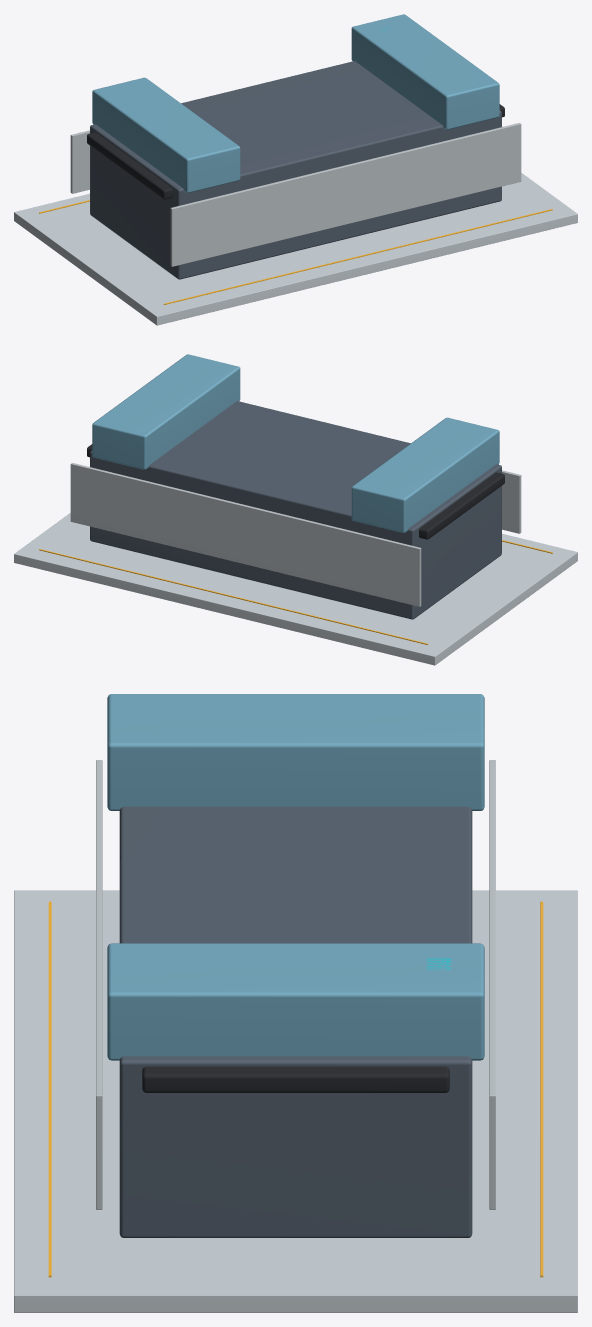
The picture shows the model from 3 angles, top to bottom: view 1: azimuth 30°, elevation 25°; view 2: azimuth 150°, elevation 25°; view 3: azimuth 270°, elevation 25°; orthographic projection. The views are drawn at different scales.
Visible parts, largest first — view 1: Industrial frame, Ground plane, Safety guard, Equipment housing.001, Equipment housing, Conveying surface, Safety guard.001, Concept clearance guide; view 2: Industrial frame, Ground plane, Safety guard.001, Equipment housing.001, Equipment housing, Conveying surface, Safety guard, Concept clearance guide.001; view 3: Ground plane, Industrial frame, Equipment housing.001, Equipment housing, Conveying surface, Safety guard, Safety guard.001, Concept clearance guide, Concept clearance guide.001.
Boxes of the visible parts, left/top/right/bottom form: Industrial frame: left=90, top=61, right=501, bottom=279; Ground plane: left=14, top=173, right=577, bottom=325; Safety guard: left=170, top=123, right=521, bottom=266; Equipment housing.001: left=351, top=14, right=499, bottom=129; Equipment housing: left=92, top=77, right=240, bottom=192; Conveying surface: left=87, top=104, right=504, bottom=199; Safety guard.001: left=70, top=130, right=89, bottom=193; Concept clearance guide: left=163, top=209, right=552, bottom=304; Industrial frame: left=90, top=401, right=501, bottom=619; Ground plane: left=14, top=513, right=577, bottom=665; Safety guard.001: left=70, top=463, right=421, bottom=606; Equipment housing.001: left=92, top=354, right=240, bottom=469; Equipment housing: left=351, top=417, right=499, bottom=532; Conveying surface: left=87, top=444, right=504, bottom=539; Safety guard: left=502, top=470, right=521, bottom=533; Concept clearance guide.001: left=39, top=549, right=428, bottom=644; Ground plane: left=14, top=890, right=577, bottom=1312; Industrial frame: left=119, top=806, right=472, bottom=1237; Equipment housing.001: left=107, top=943, right=484, bottom=1060; Equipment housing: left=107, top=694, right=484, bottom=810; Conveying surface: left=142, top=1066, right=449, bottom=1092; Safety guard: left=96, top=760, right=102, bottom=1209; Safety guard.001: left=489, top=760, right=495, bottom=1209; Concept clearance guide: left=48, top=901, right=51, bottom=1277; Concept clearance guide.001: left=540, top=901, right=543, bottom=1277.
Bounding box in the file's own units: 5.85 × 1.8 × 3.44.
